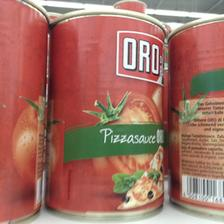Tomatensauce: (43, 6, 168, 222), (166, 12, 222, 214)
